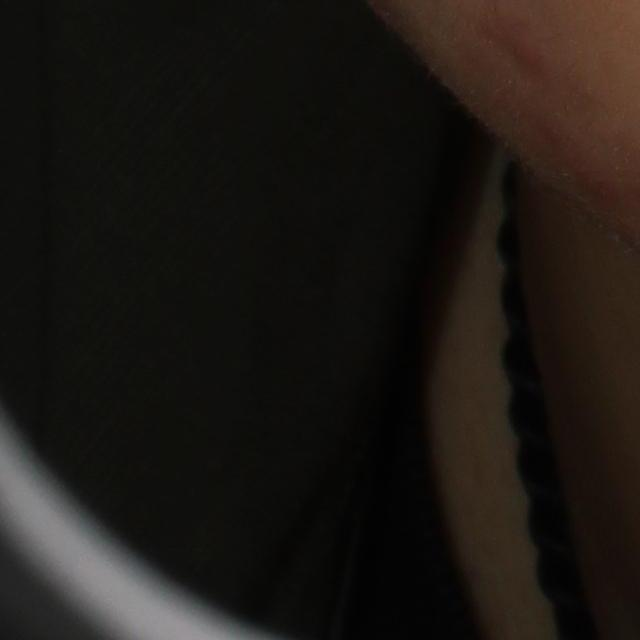papule: (512, 34, 548, 66)
